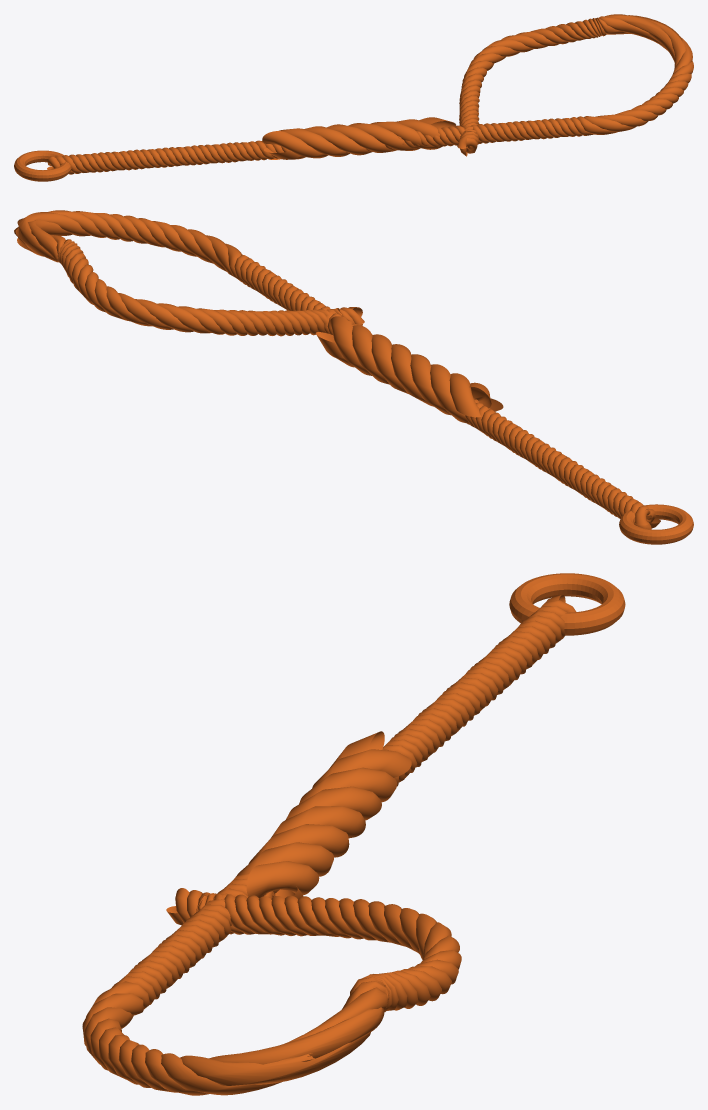
The model's file is вис.fbx.
3 views of the same model, one above another, from view 1: azimuth 30°, elevation 25°; view 2: azimuth 150°, elevation 25°; view 3: azimuth 270°, elevation 25° (orthographic). The views are drawn at different scales.
Visible parts, largest first — view 1: Окружность.001, Окружность, Torus; view 2: Окружность.001, Окружность, Torus; view 3: Окружность.001, Окружность, Torus.
Part boxes in pixels (left/top/right/bottom): Окружность.001: left=47, top=14, right=693, bottom=174; Окружность: left=261, top=117, right=456, bottom=159; Torus: left=14, top=150, right=71, bottom=181; Окружность.001: left=14, top=210, right=660, bottom=529; Окружность: left=315, top=316, right=503, bottom=423; Torus: left=619, top=504, right=693, bottom=544; Окружность.001: left=82, top=595, right=576, bottom=1095; Окружность: left=237, top=731, right=411, bottom=898; Torus: left=509, top=573, right=625, bottom=635.
Bounding box in the file's own units: 41282 × 4701 × 16410.
